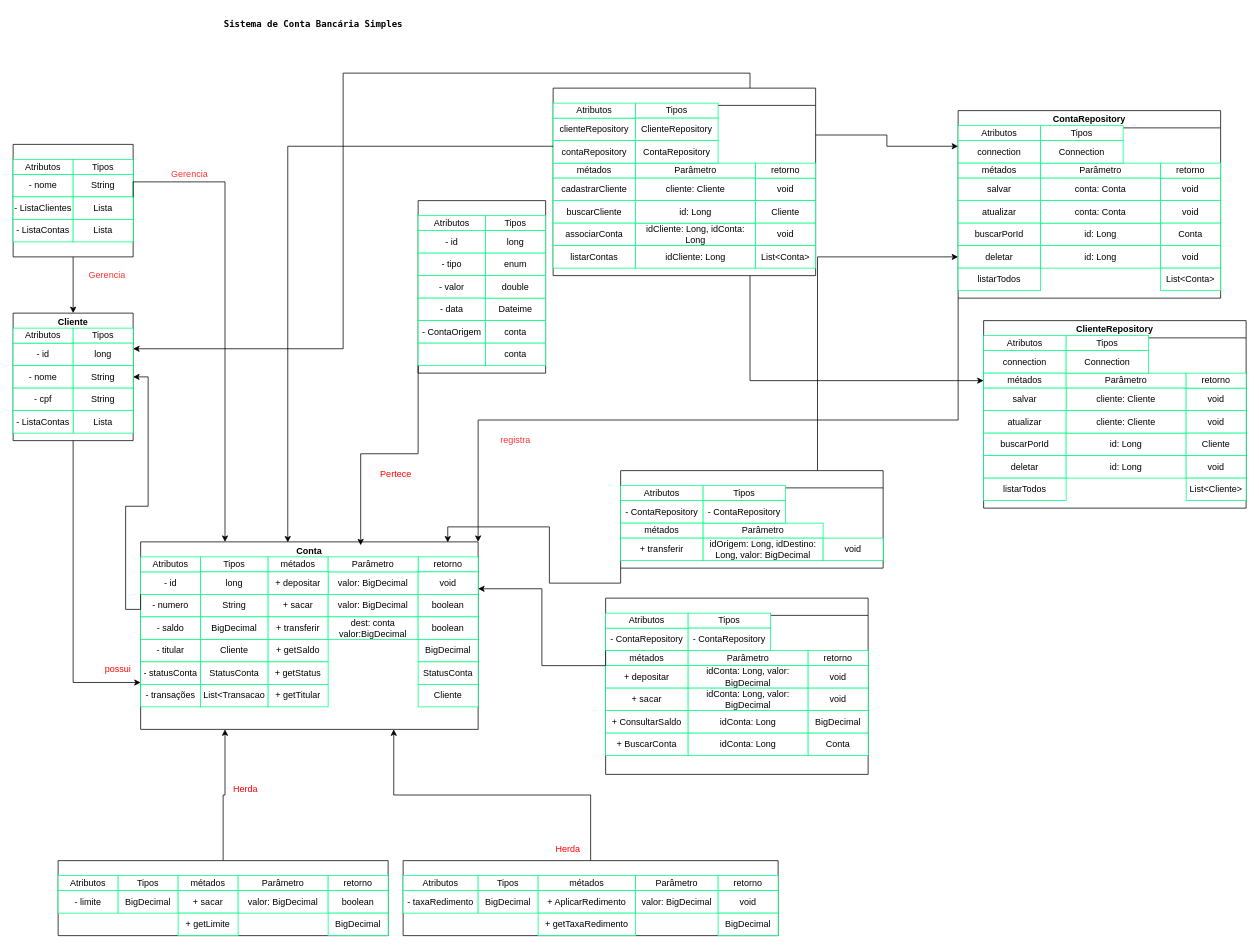
The diagram is 1259 pixels wide and 949 high, and some of its shapes have lost their labels. Here are the shapes that lost their labels. From the top down, the box of each, then its label:
(12, 144, 133, 257): Banco
(552, 87, 816, 276): ClienteService
(417, 200, 546, 373): Transacao
(417, 342, 486, 366): - ContaDestino
(620, 470, 883, 568): TransferenciaService
(605, 597, 868, 774): ContaService
(57, 860, 388, 936): ContaCorrente
(402, 860, 778, 936): ContaPoupança
